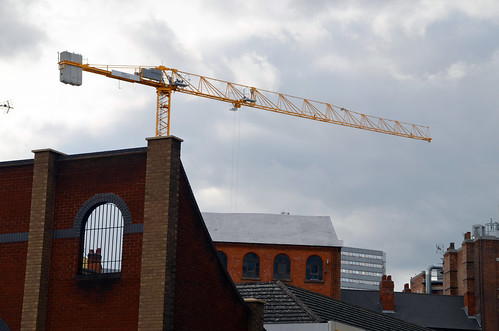building: (5, 159, 261, 331), (195, 204, 343, 331), (408, 238, 499, 331)
crane: (37, 49, 449, 202)
sky: (1, 1, 484, 219)
